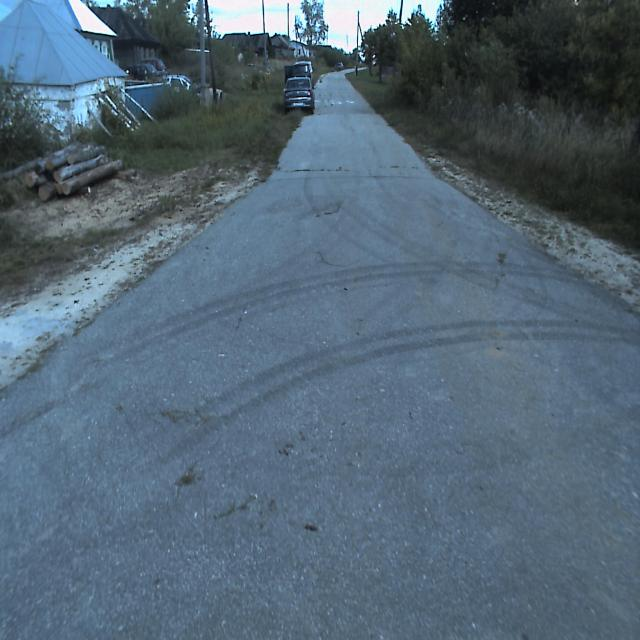road: (0, 68, 640, 639)
